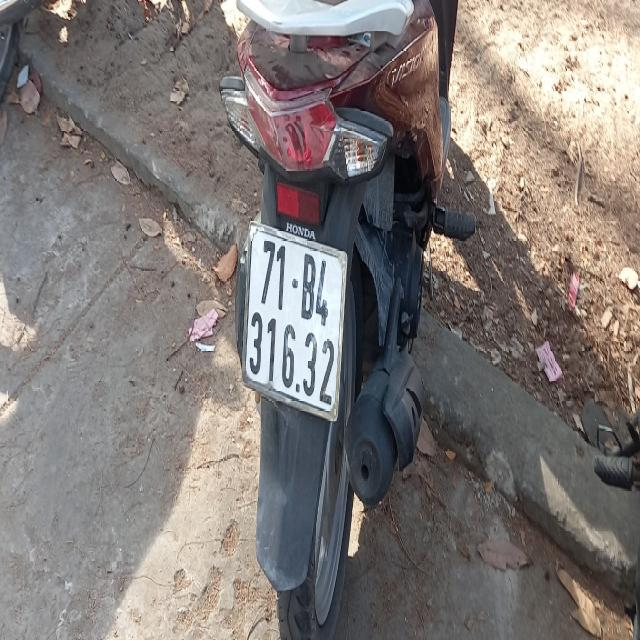1: (276, 243, 286, 313), (268, 315, 276, 384)
2: (320, 337, 334, 410), (328, 393, 329, 394)
3: (303, 331, 317, 398), (250, 312, 263, 376)
4: (316, 257, 328, 325)
6: (281, 324, 296, 394)
7: (261, 235, 276, 303)
B: (302, 250, 314, 324)
